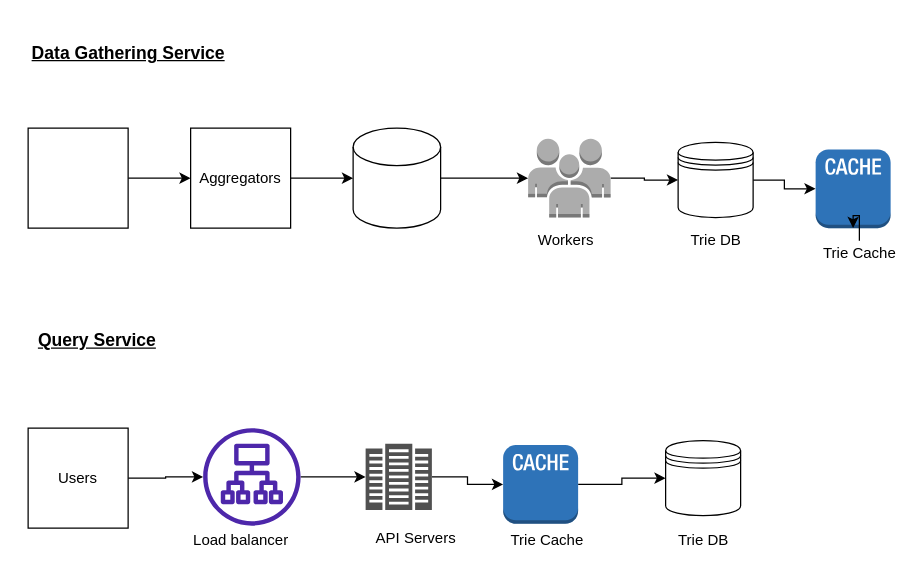
The diagram is 924 pixels wide and 574 high, and some of its shapes have lost their labels. The shapes that lost their labels are listed below. From the top down, each one's box as (x1, y1, x2, y2) in pixels, then its label:
(27, 127, 128, 228): Query Logs
(352, 127, 441, 228): Aggregated data
